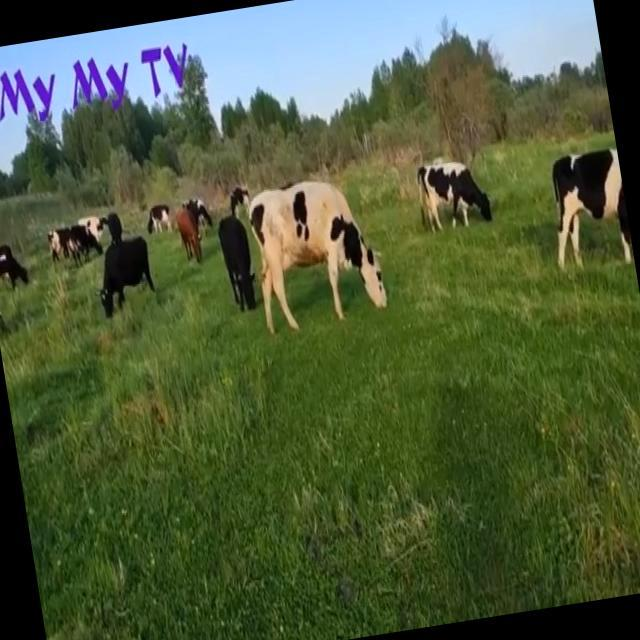COW: (219, 181, 387, 331), (50, 213, 152, 316), (553, 149, 632, 266), (417, 163, 491, 231), (272, 184, 331, 268), (177, 198, 213, 259), (287, 216, 296, 224)
